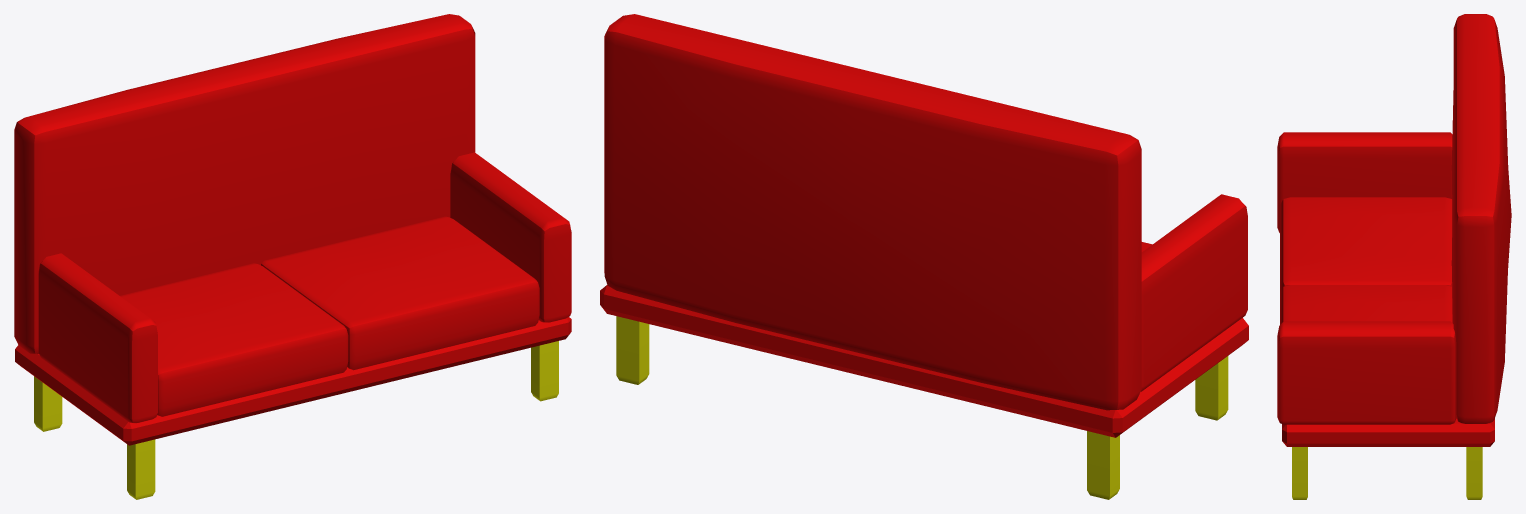
Rendered from Sofa.fbx.
3 renders of one model, left to right at view 1: azimuth 30°, elevation 25°; view 2: azimuth 150°, elevation 25°; view 3: azimuth 270°, elevation 25°, orthographic. The views are drawn at different scales.
Parts seen in each view (by area): view 1: Couch; view 2: Couch; view 3: Couch.
Part boxes in pixels (x1=…): Couch: x1=14, y1=14, x2=571, y2=499; Couch: x1=600, y1=14, x2=1248, y2=499; Couch: x1=1277, y1=14, x2=1511, y2=499.
Size of the model in its own units: 4.81 by 3.17 by 2.31.
